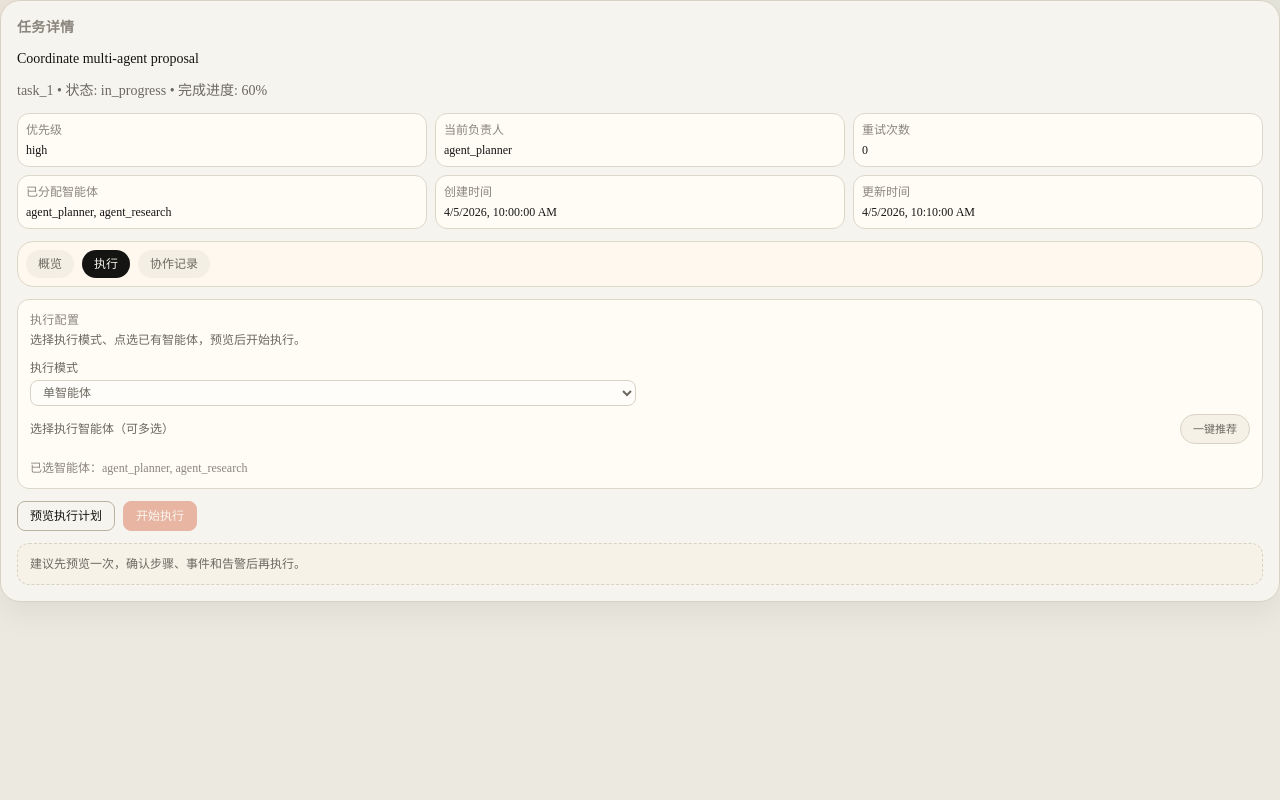
Test: TaskDetail › renders proposal vs decision comparison rows
This screenshot has width=1280, height=800.
What coordinates should you click on to do the following:
click the button with test id "task-detail-tab-coordination"
I would click on:
 (174, 264)
Its box is [138,250,210,278].
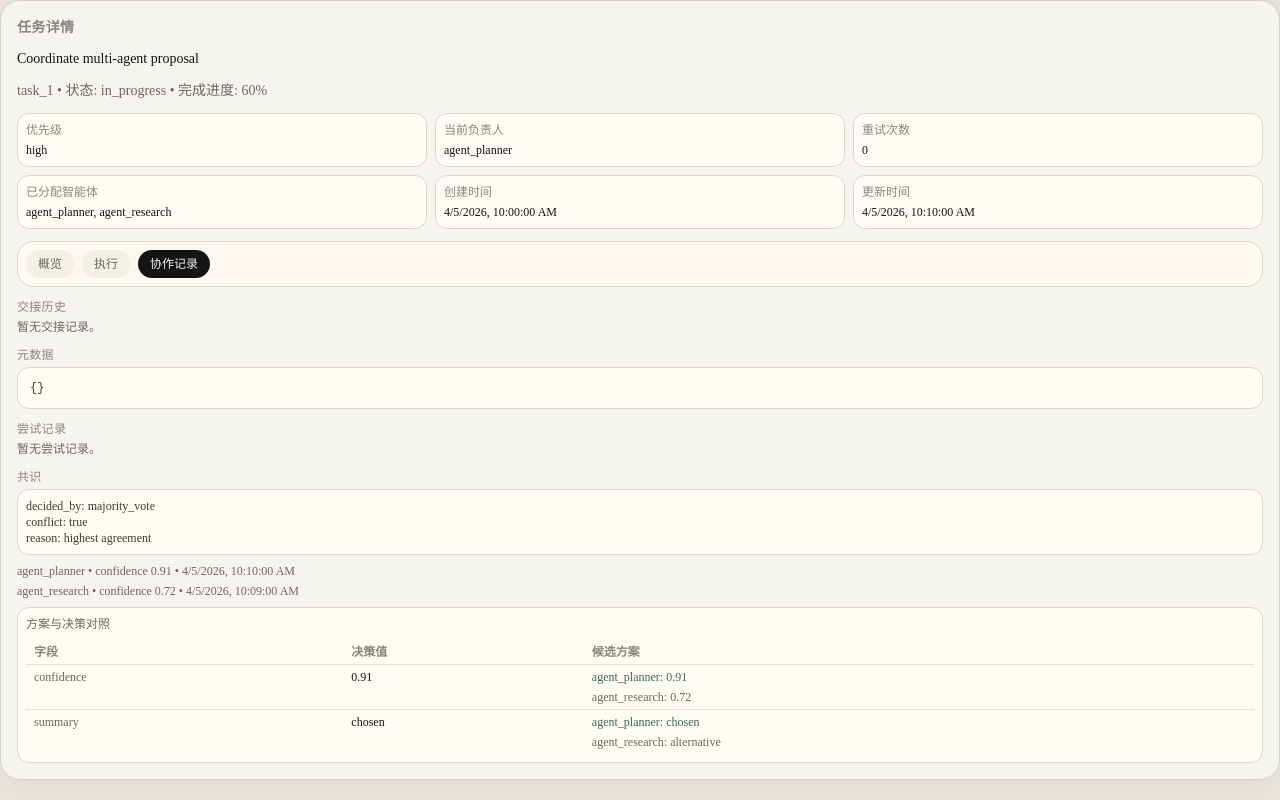
Now the text "方案与决策对照" is shown, box [26,617,110,631]
Now the column heading "字段" is shown, box [26,640,343,664]
Now the text "summary" is shown, box [26,710,343,754]
